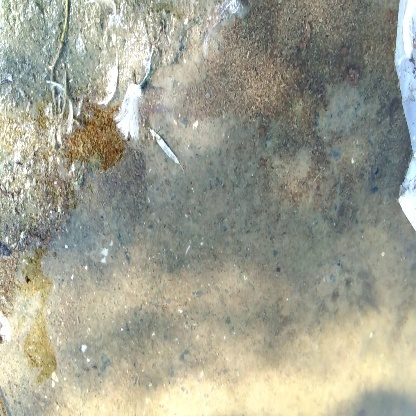branch: (34, 1, 86, 95)
